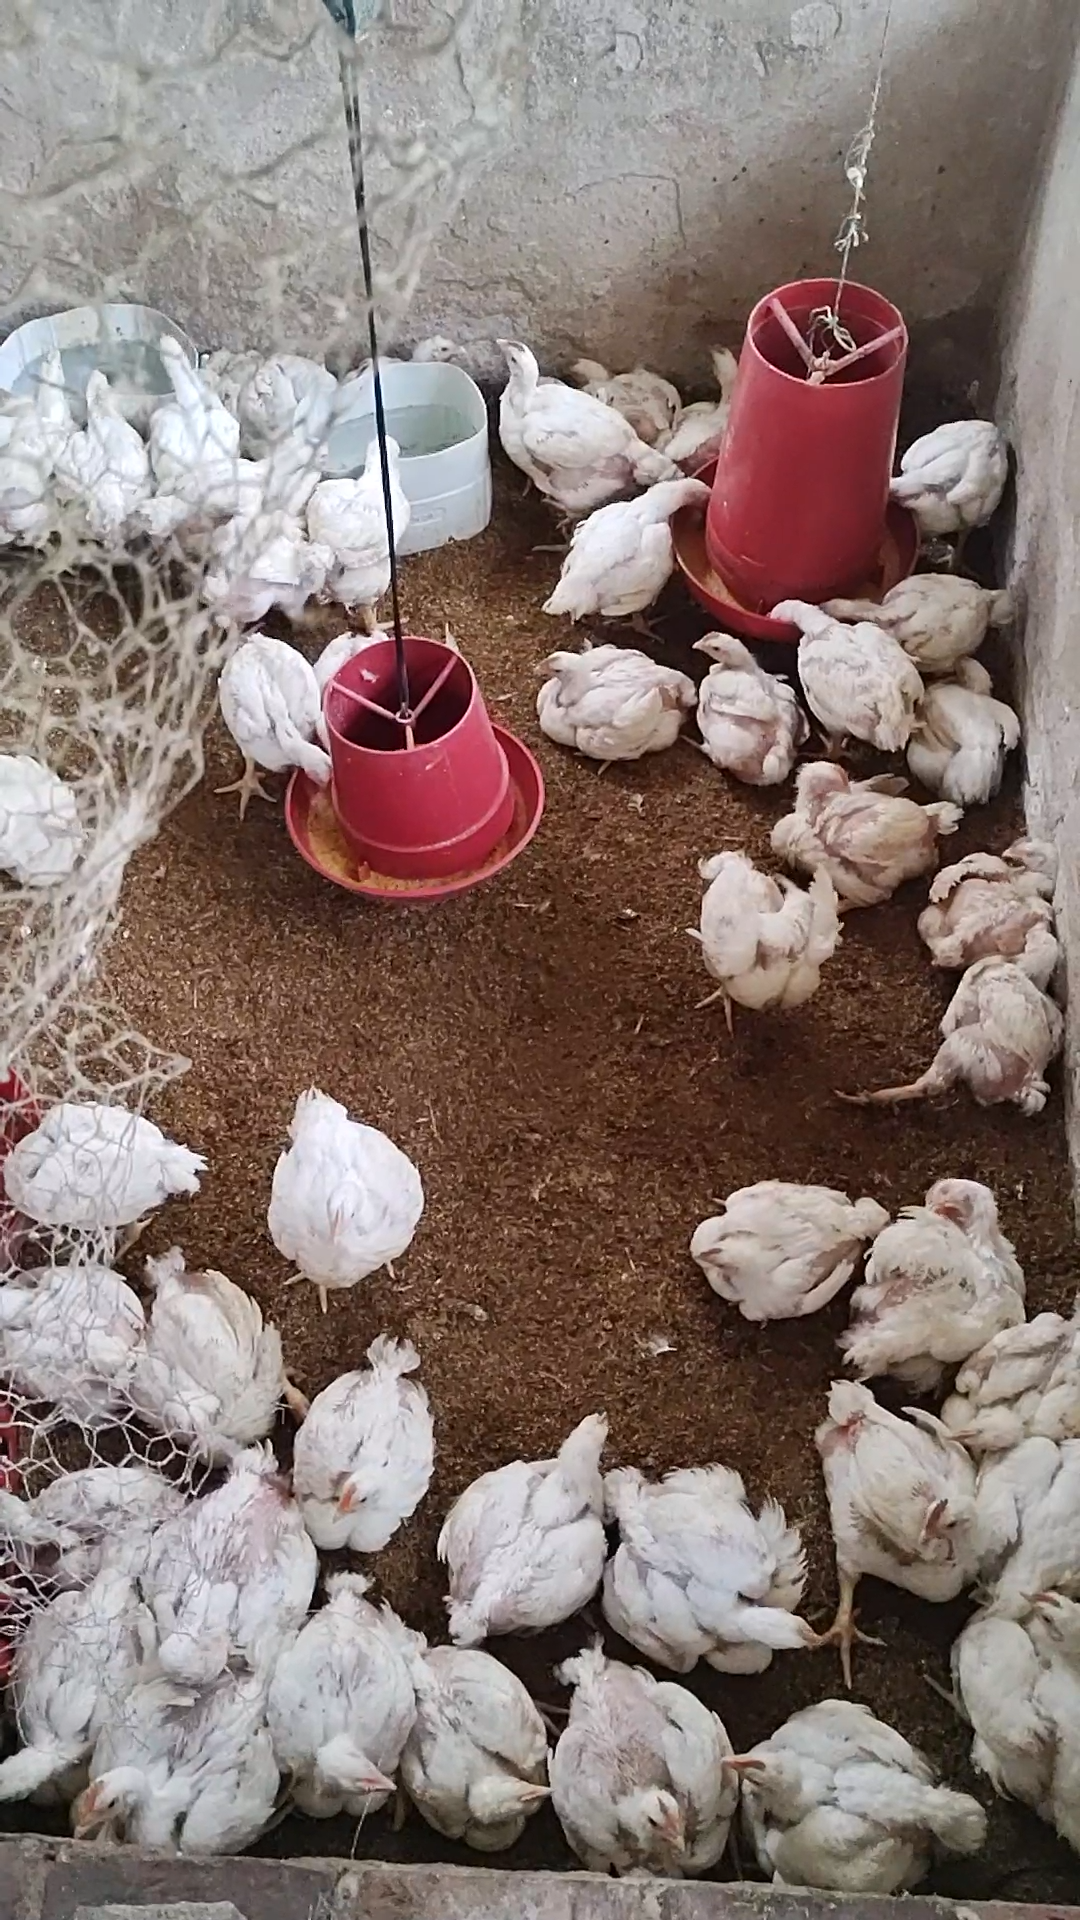Pollos: (800, 1370, 1011, 1673), (713, 1689, 992, 1892), (605, 1458, 825, 1675), (839, 916, 1067, 1124), (554, 1626, 738, 1879), (67, 1654, 295, 1855), (440, 1403, 626, 1646), (924, 1572, 1080, 1855), (385, 1597, 560, 1846), (833, 1168, 1029, 1387), (138, 1236, 316, 1465), (145, 1455, 320, 1684), (0, 1575, 162, 1807), (485, 323, 669, 526), (260, 1079, 422, 1308), (266, 1578, 414, 1826), (1, 1096, 203, 1253), (687, 832, 839, 1038), (686, 1172, 885, 1324), (537, 469, 717, 633), (301, 1338, 434, 1560), (760, 589, 920, 766), (1, 1253, 162, 1425), (767, 756, 945, 907), (526, 632, 703, 771), (934, 1288, 1080, 1447), (309, 425, 415, 638), (907, 831, 1067, 973), (210, 622, 334, 802), (4, 1465, 179, 1588), (823, 568, 1022, 671), (907, 654, 1029, 820), (687, 615, 800, 782), (150, 320, 258, 487), (878, 415, 1015, 545), (0, 345, 83, 546), (73, 364, 160, 541), (662, 314, 738, 469), (560, 342, 687, 434), (365, 323, 465, 385)
